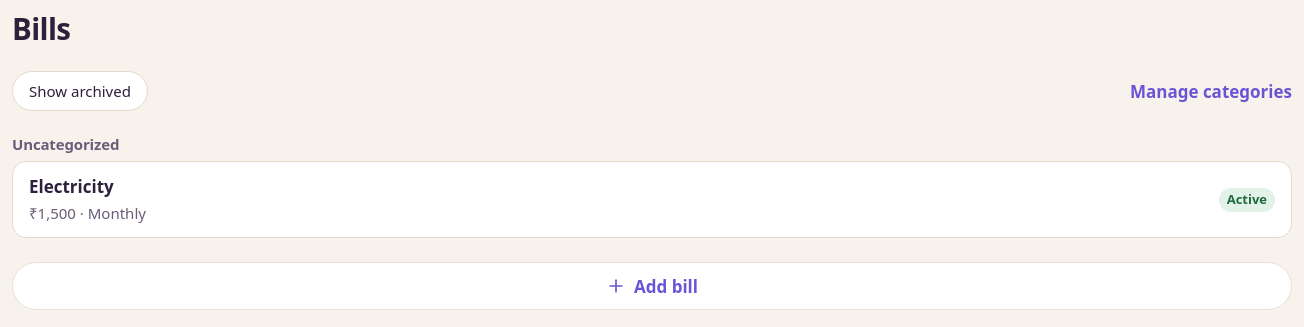
BillsListPage › toggling Show archived requests archived bills too
Check: the text "Electricity" is shown, box left=29, top=175, right=114, bottom=198
Click the button "Show archived": (80, 91) left=12, top=71, right=148, bottom=111
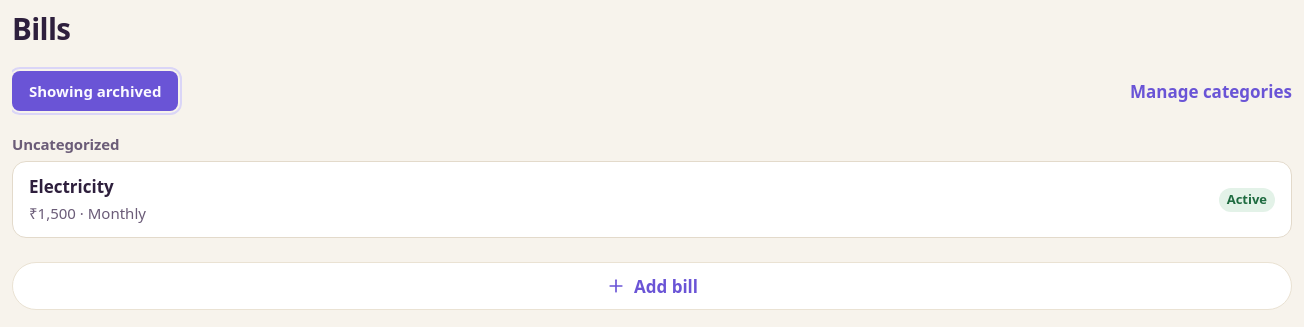
Check: the button "Showing archived" is shown, box left=12, top=71, right=178, bottom=111
